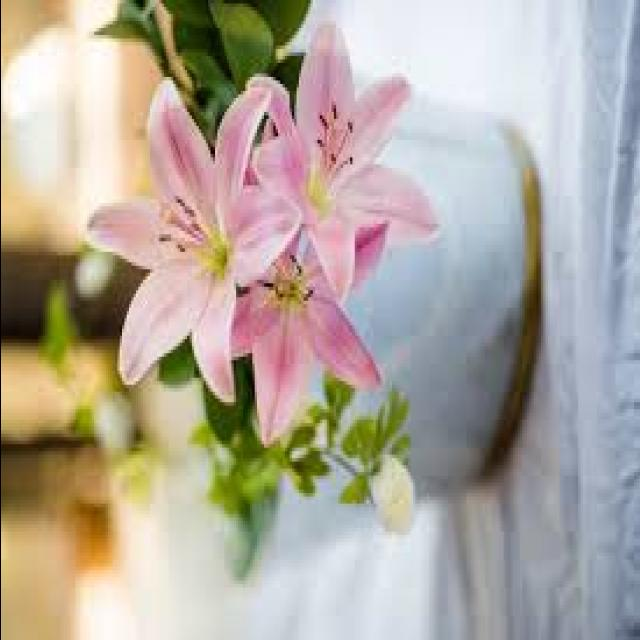lily: (85, 70, 301, 456)
